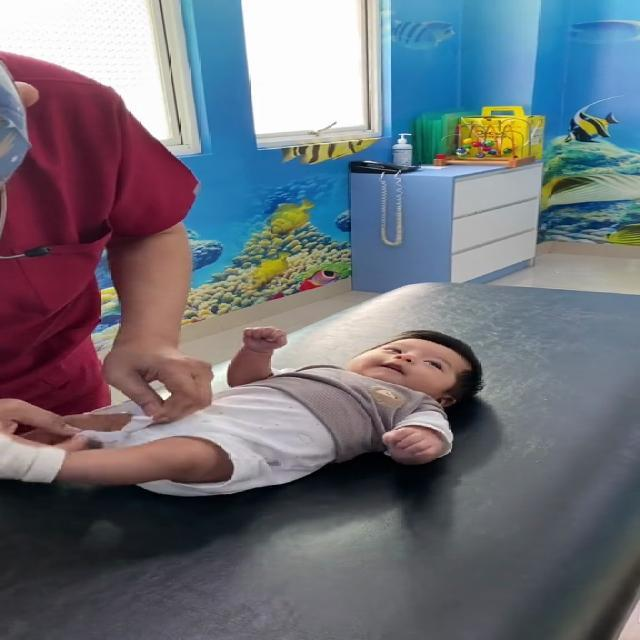baby: (0, 314, 494, 519)
